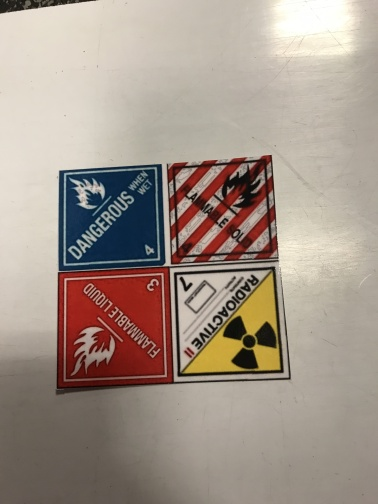DangerousWhenWet: (58, 166, 167, 266)
FlammableLiquid: (58, 269, 169, 387)
FlammableSolid: (166, 154, 280, 265)
Radioactive: (169, 262, 292, 383)
